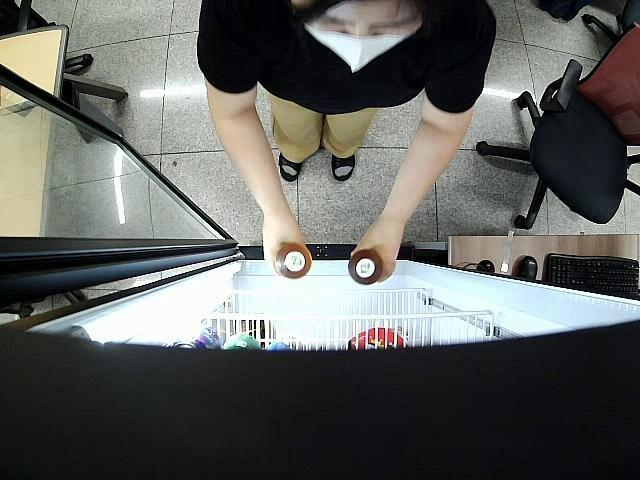19_17cha: (274, 241, 312, 278), (348, 248, 382, 286)
